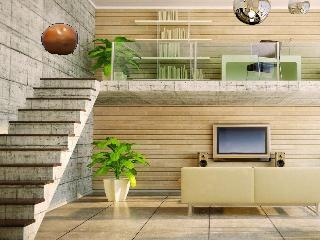potato: (39, 21, 81, 56)
